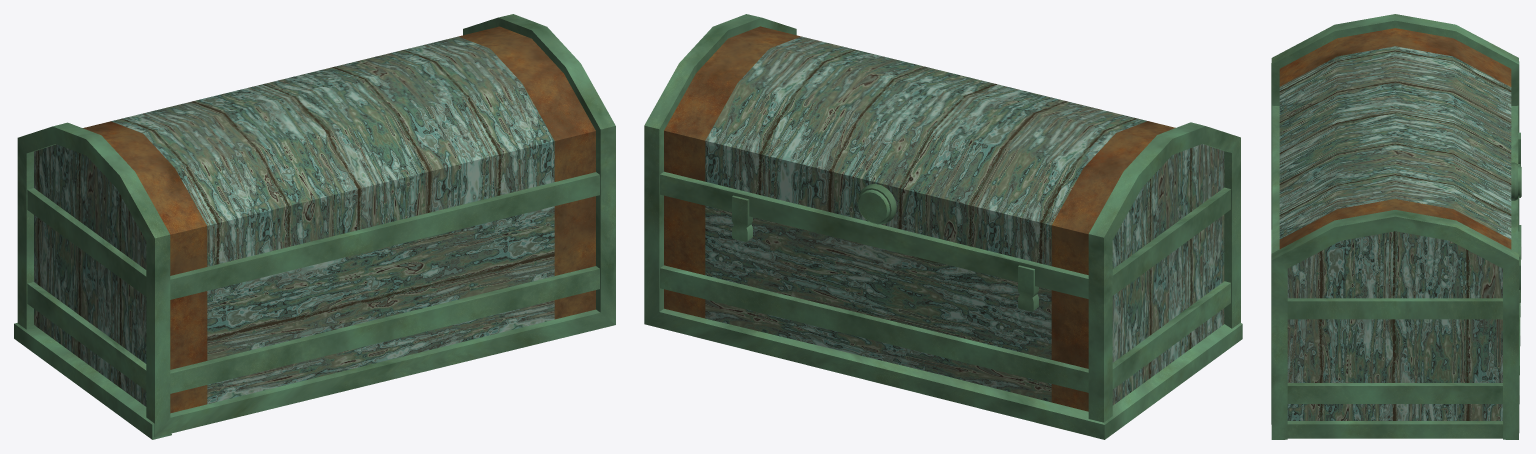
File: Trunk2.FBX
3 renders of one model, left to right at view 1: azimuth 30°, elevation 25°; view 2: azimuth 150°, elevation 25°; view 3: azimuth 270°, elevation 25°, orthographic. The views are drawn at different scales.
Parts seen in each view (by area): view 1: Object057; view 2: Object057; view 3: Object057.
Boxes of the visible parts, bbox=[...] form: Object057: bbox=[14, 14, 615, 439]; Object057: bbox=[644, 14, 1242, 439]; Object057: bbox=[1271, 14, 1521, 439].
Bounding box in the file's own units: 104 × 53.69 × 53.97.
